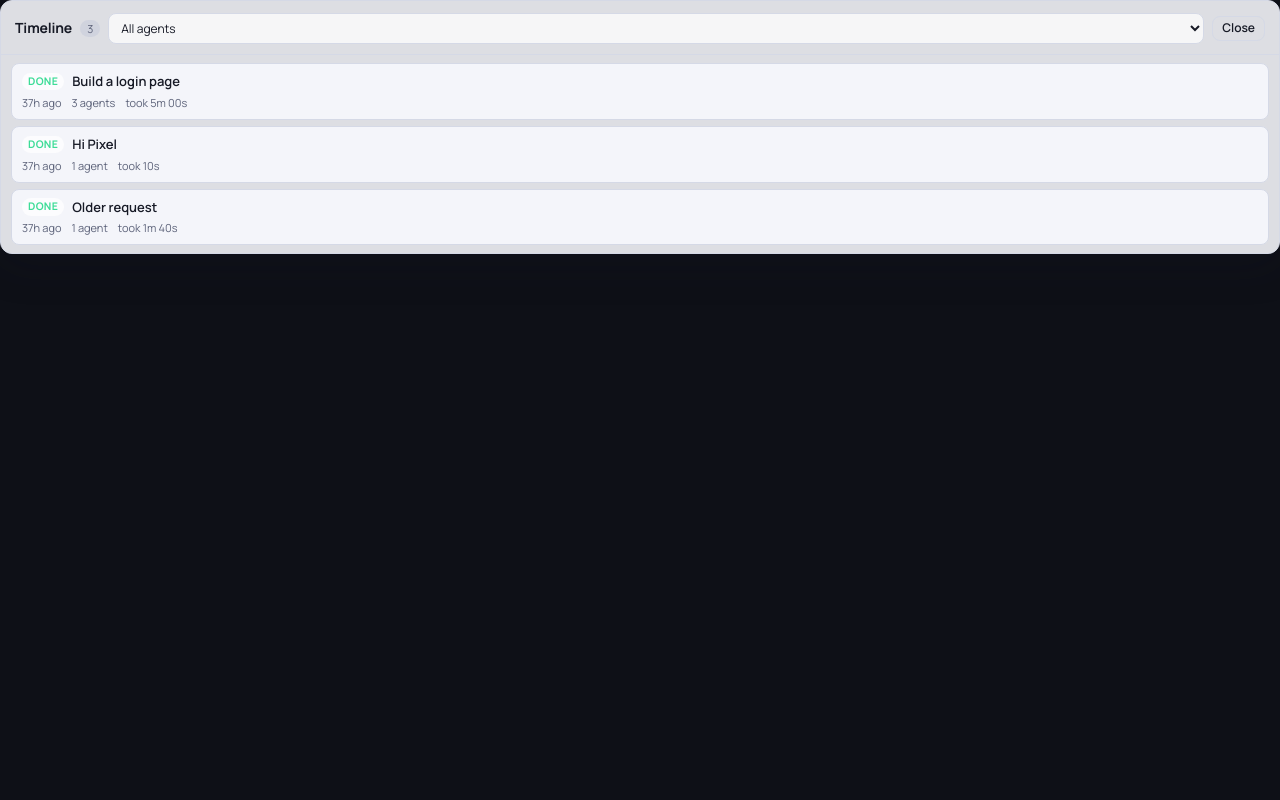
Test: Timeline panel › the workflow board closes with Escape
The image size is (1280, 800).
Click the button "Done Build a login page 37h ago 3 agents took 5m 00s" at {"x": 43, "y": 81}, box x1=12 y1=64 x2=1268 y2=119
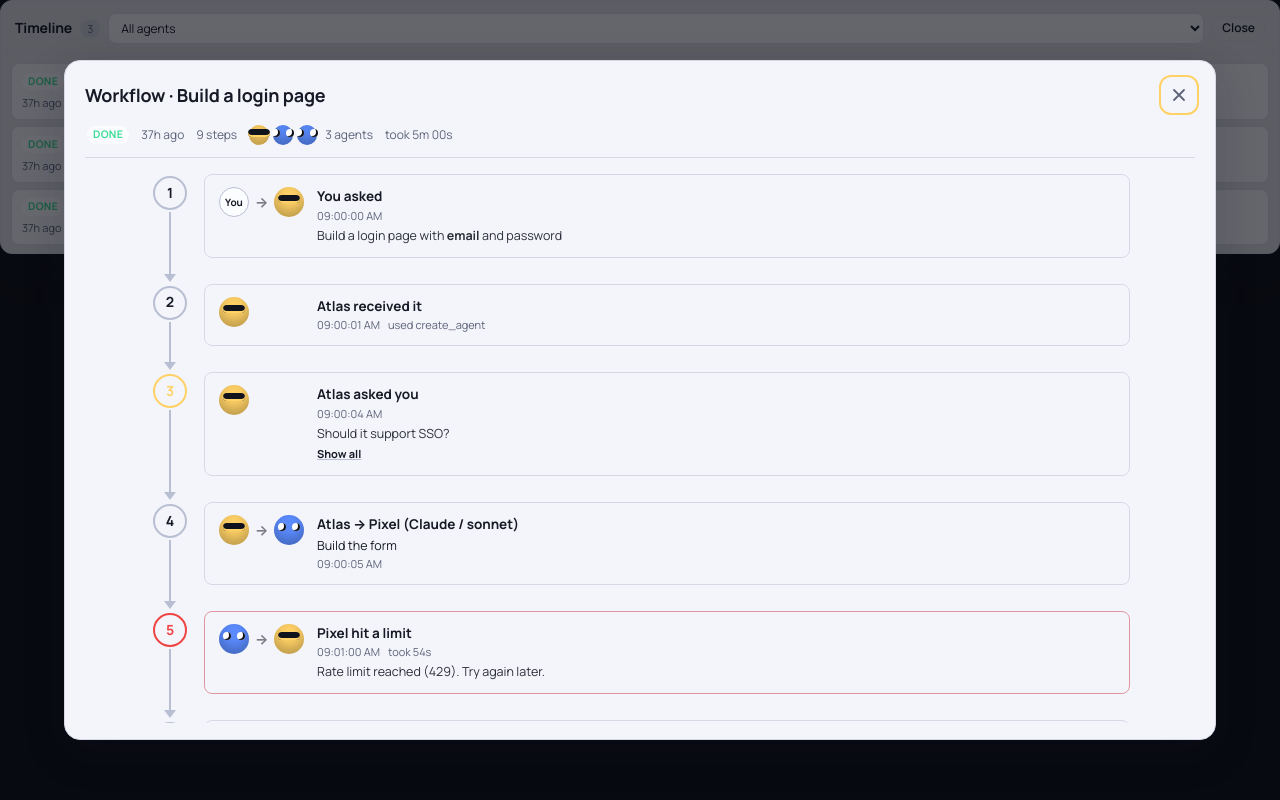
Now the element with test id "workflow-board" is shown
Press Escape
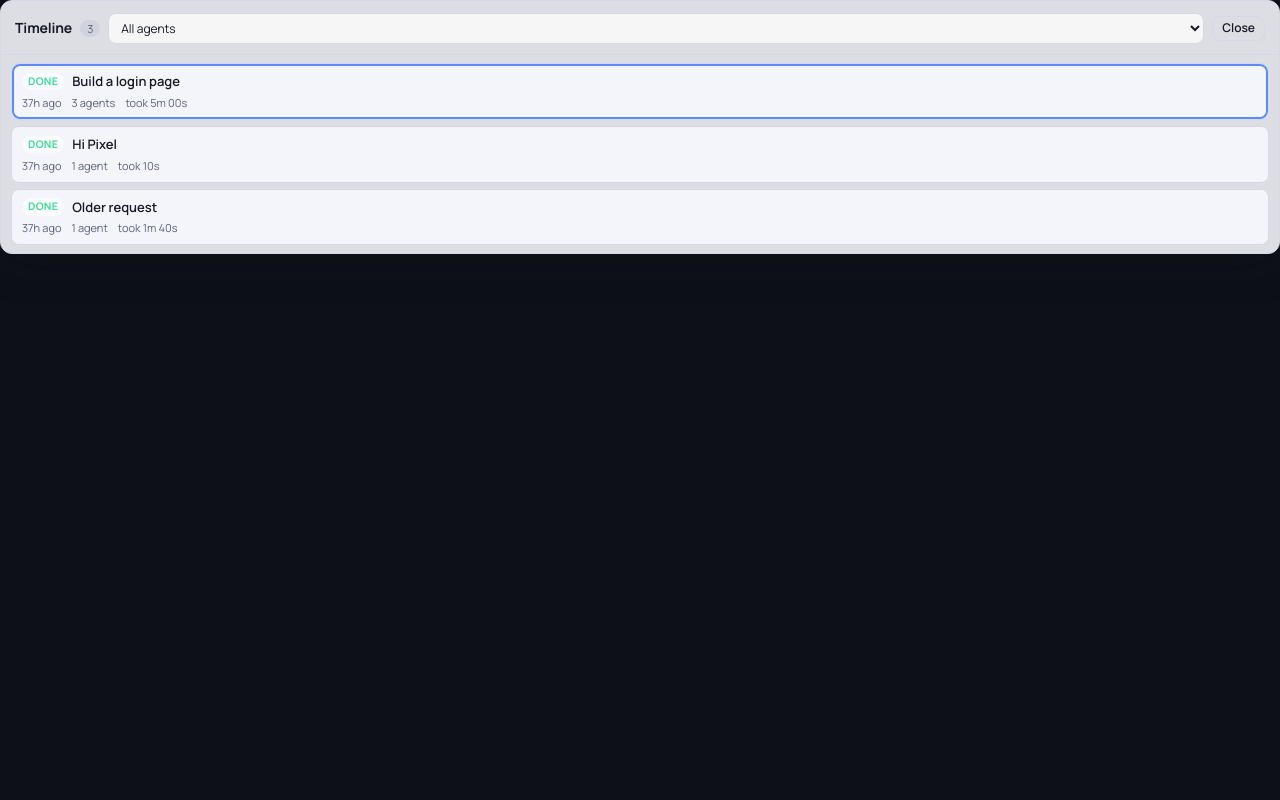
Now the element with test id "workflow-board" is gone
